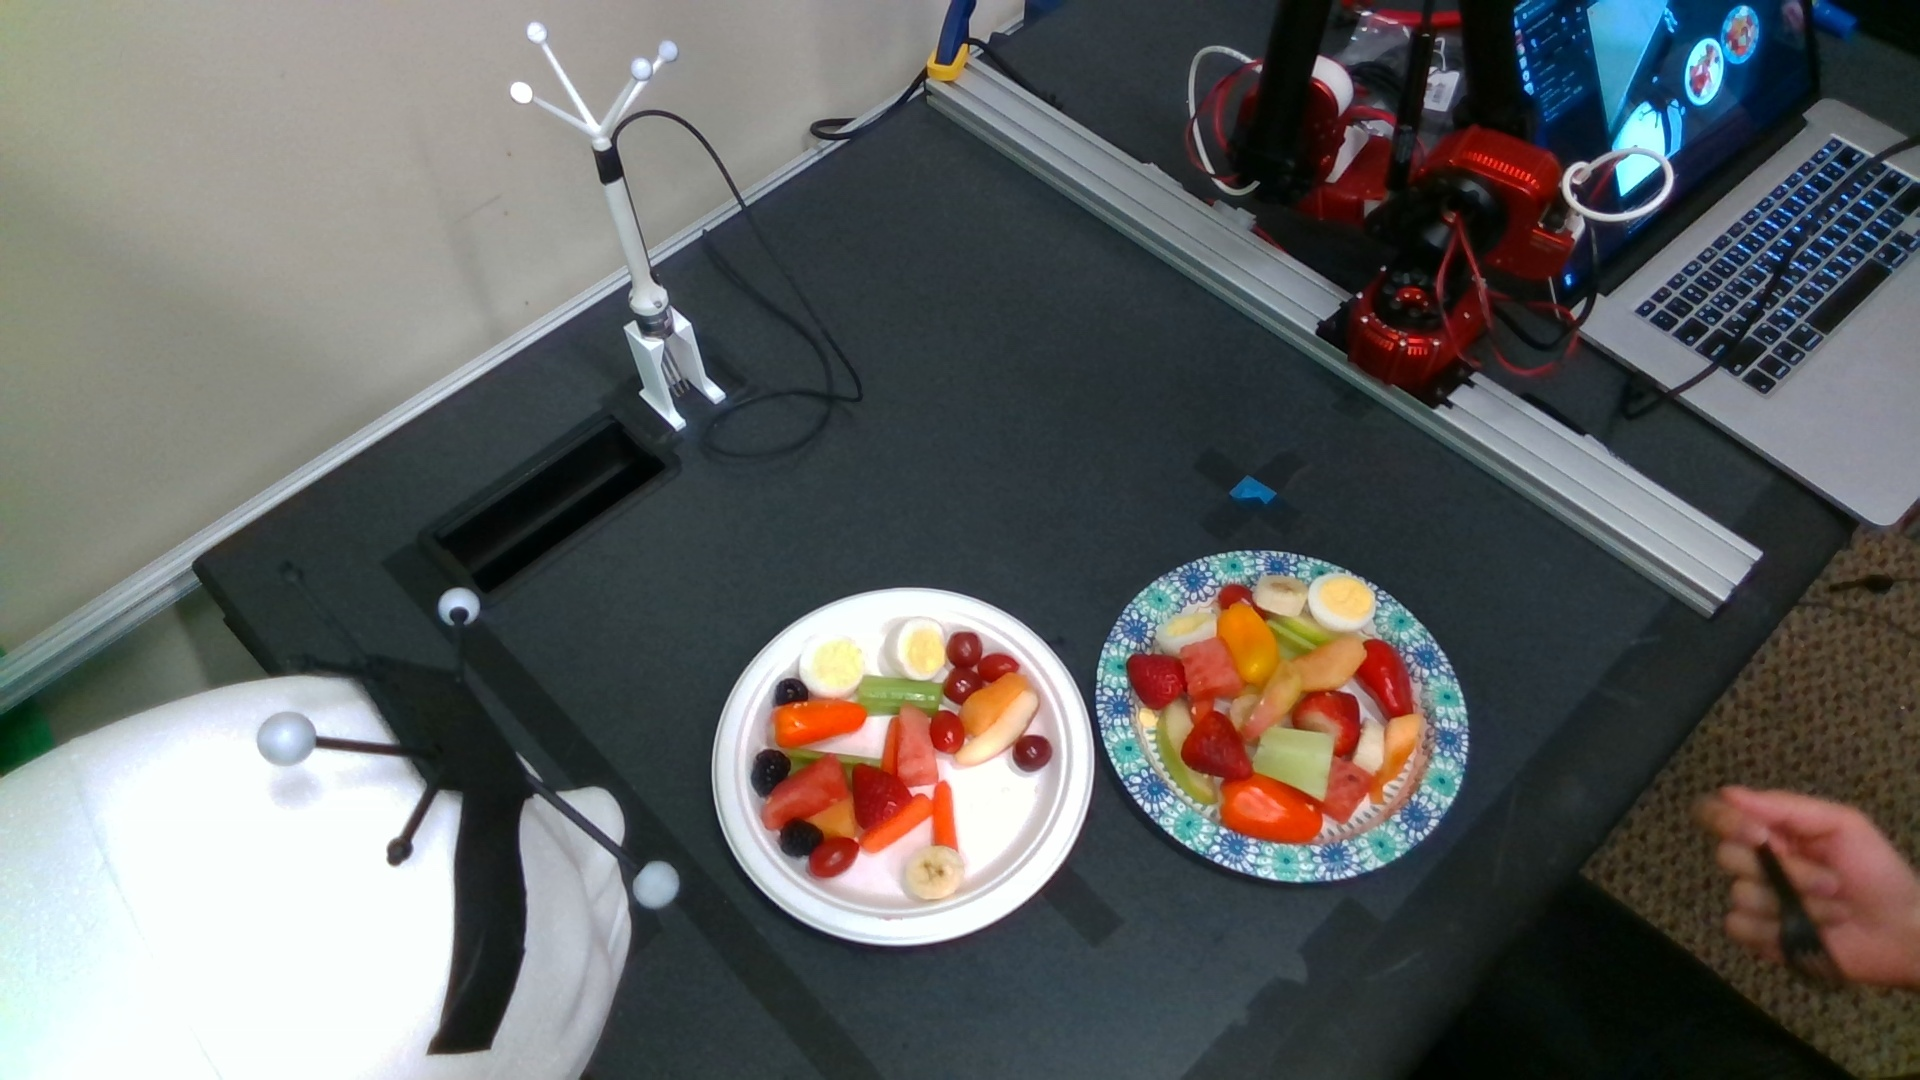apple: (956, 690, 1038, 767), (1158, 700, 1216, 804), (1242, 661, 1299, 738)
banana: (906, 845, 965, 899), (1254, 574, 1308, 618), (1352, 716, 1386, 773)
bell_pepper: (1220, 774, 1323, 844), (771, 698, 866, 749), (1356, 640, 1414, 721), (1220, 601, 1278, 682)
blackberry: (752, 750, 790, 795), (781, 819, 824, 857), (775, 678, 808, 707)
cantalope: (1371, 713, 1423, 804), (957, 673, 1030, 736), (1292, 636, 1367, 690)
carrot: (862, 794, 932, 853), (932, 782, 956, 848)
celery: (1254, 725, 1335, 800), (860, 674, 944, 716)
cherry_tomato: (812, 837, 858, 877), (928, 709, 963, 756), (981, 651, 1021, 683)
egg: (799, 633, 866, 696), (884, 616, 945, 680), (1307, 574, 1375, 632), (1156, 611, 1218, 654)
grape_purple: (1013, 735, 1054, 771), (945, 669, 984, 703), (947, 633, 982, 667)
melon: (762, 756, 851, 829), (1183, 638, 1242, 702), (1320, 756, 1373, 823), (897, 705, 938, 786)
strawberry: (1180, 709, 1253, 779), (1294, 690, 1360, 757), (851, 762, 913, 828), (1127, 653, 1183, 709)
